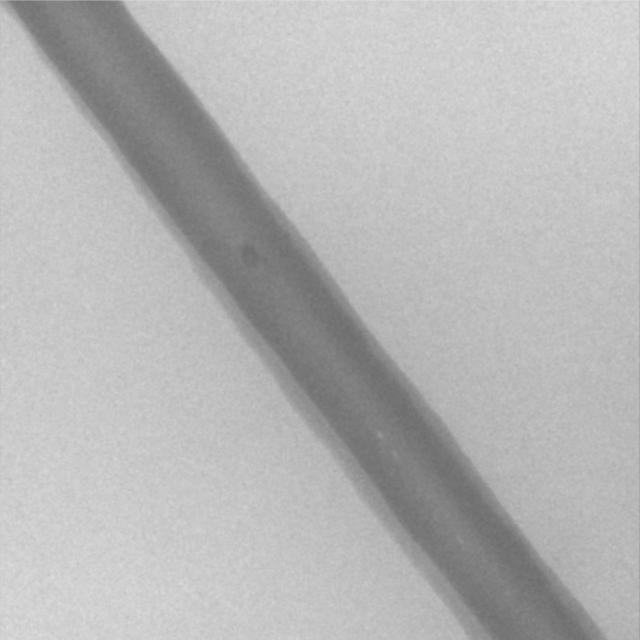air hole: (455, 533, 463, 545), (374, 429, 382, 439)
